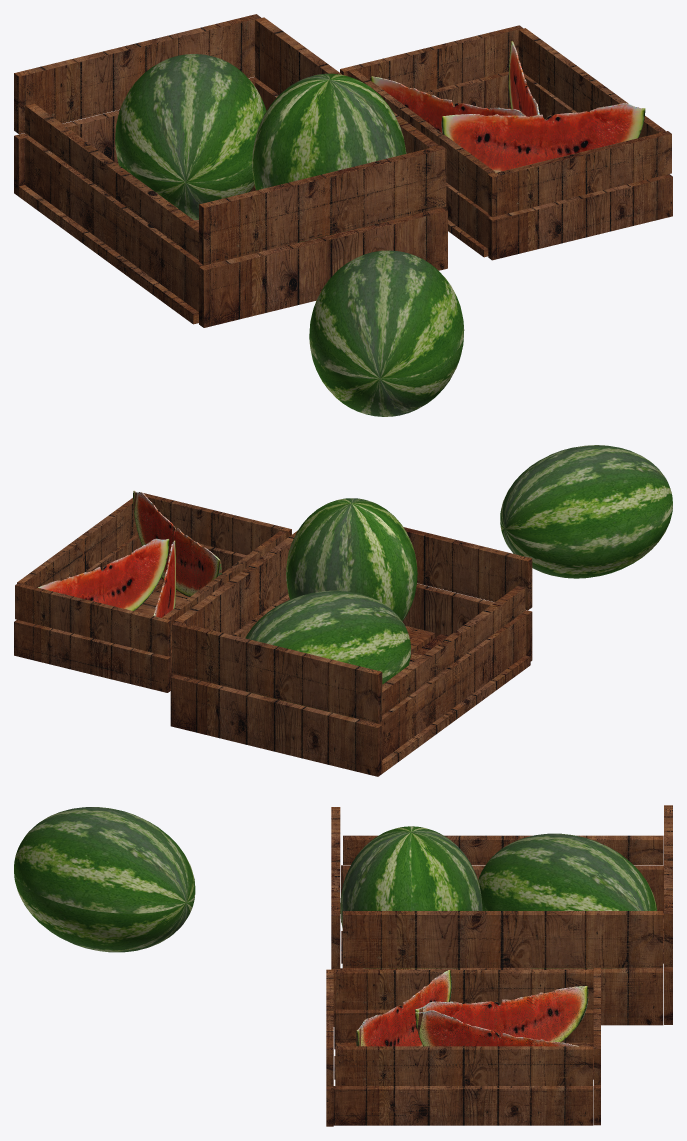
The model's file is Watermelon.fbx.
3 renders of one model, top to bottom at view 1: azimuth 30°, elevation 25°; view 2: azimuth 150°, elevation 25°; view 3: azimuth 270°, elevation 25°, orthographic. The views are drawn at different scales.
Visible parts, largest first — view 1: Group2, Group1, Group3; view 2: Group2, Group1, Group3; view 3: Group2, Group1, Group3.
Boxes of the visible parts, <box> form: Group2: <box>14,14,447,327</box>; Group1: <box>340,25,672,260</box>; Group3: <box>309,250,464,416</box>; Group2: <box>170,498,532,776</box>; Group1: <box>14,490,291,692</box>; Group3: <box>500,445,672,578</box>; Group2: <box>331,805,672,1026</box>; Group1: <box>326,968,600,1126</box>; Group3: <box>14,807,195,952</box>.
Size of the model in its own units: 4.5 by 1.57 by 5.78.
